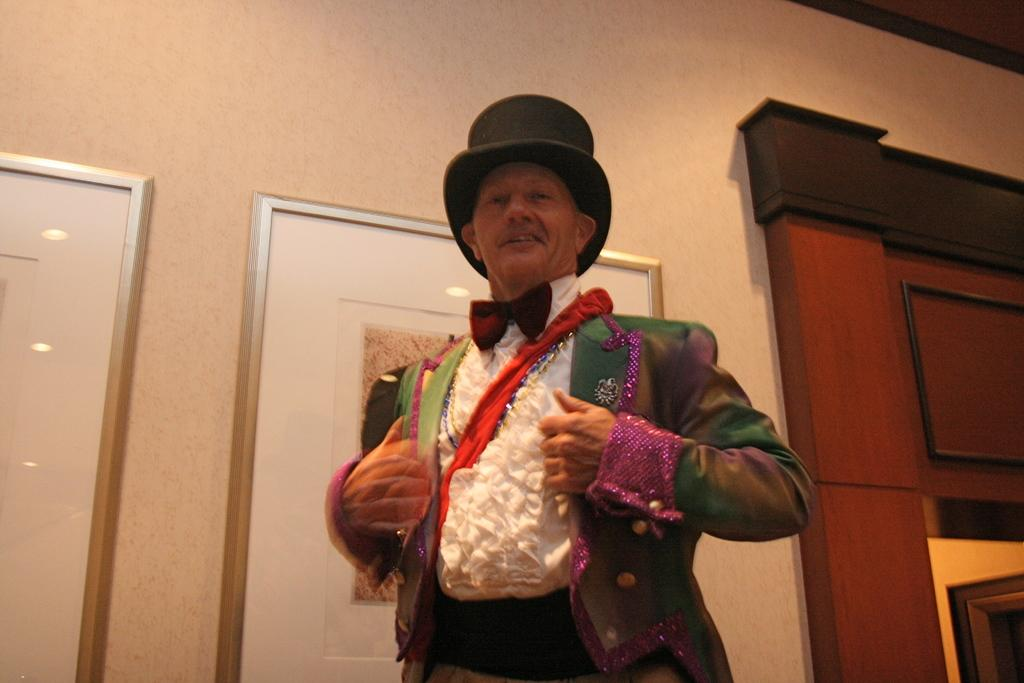Hat: (442, 92, 612, 280)
